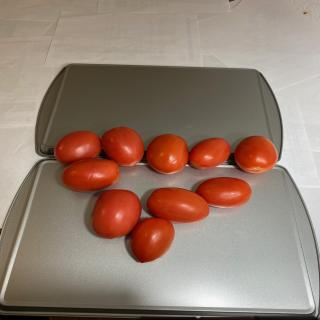Chilli: (54, 125, 279, 264)
Tomato: (90, 189, 142, 239), (146, 187, 210, 224), (130, 217, 175, 263), (60, 158, 120, 192), (195, 177, 252, 208), (146, 134, 189, 174), (101, 126, 144, 166), (54, 130, 102, 164), (234, 136, 278, 173), (189, 138, 231, 170)
